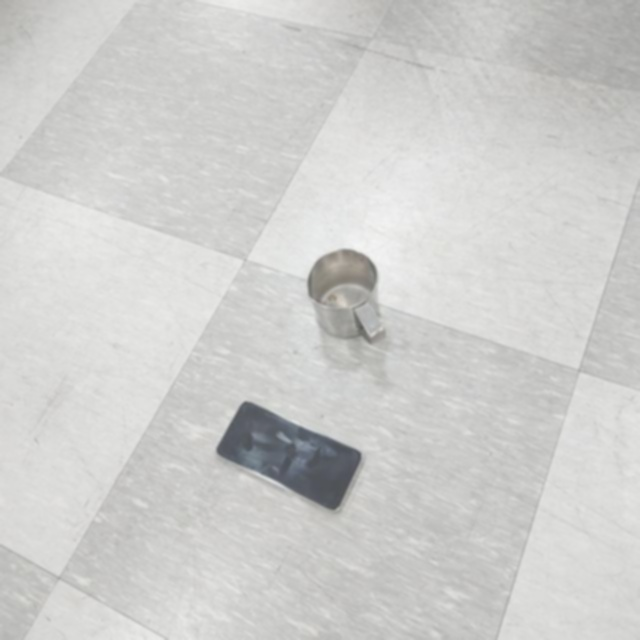cup: (307, 246, 385, 349)
phone: (214, 402, 363, 516)
